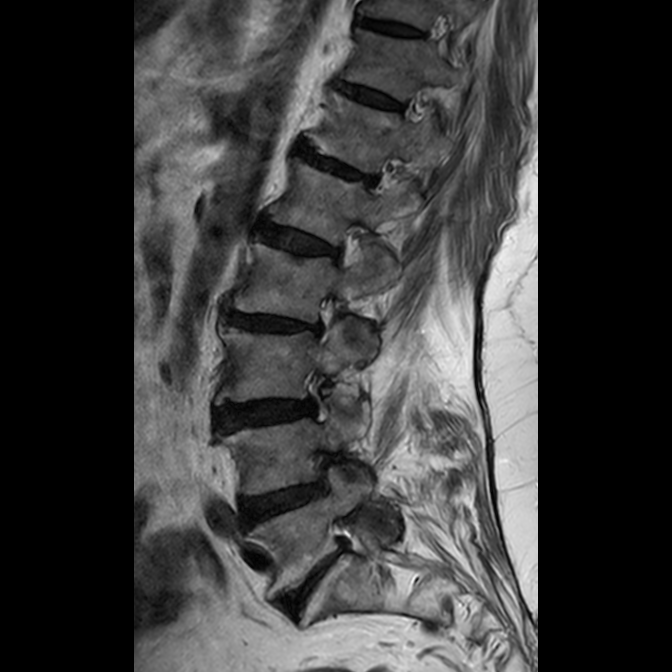LFS0: (323, 213, 373, 284)
LFS1: (289, 360, 337, 429), (301, 290, 351, 350)
